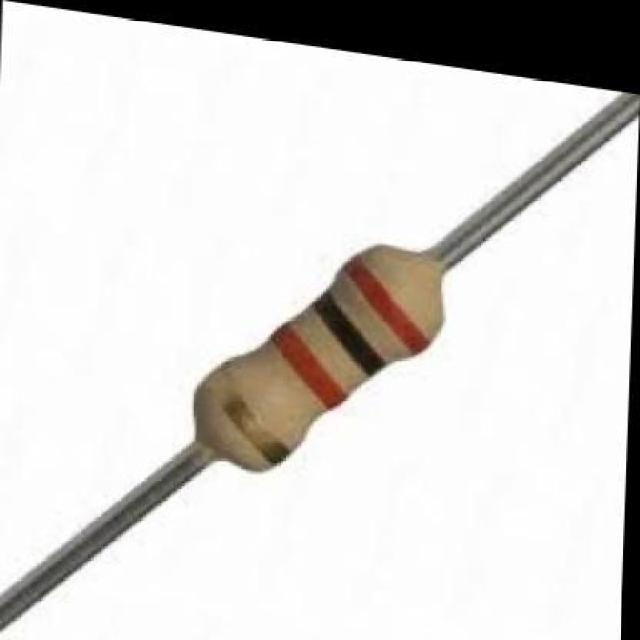Resistor: (0, 114, 606, 634)
